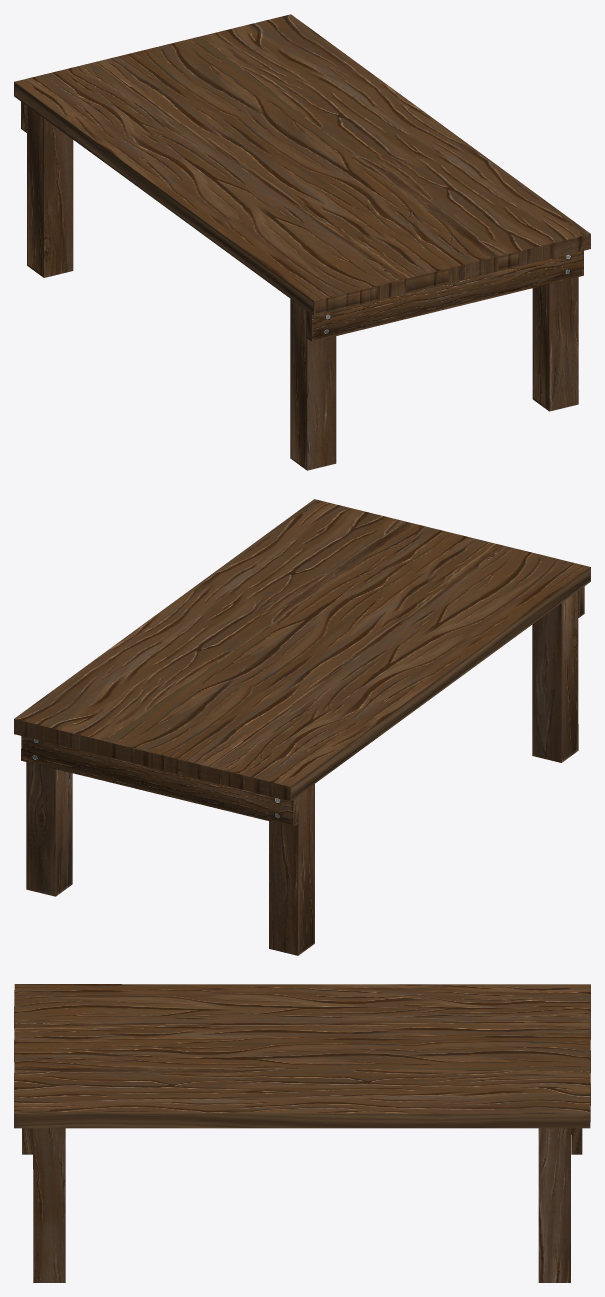
File: stolek1.FBX
3 renders of one model, top to bottom at view 1: azimuth 30°, elevation 25°; view 2: azimuth 150°, elevation 25°; view 3: azimuth 270°, elevation 25°, orthographic. The views are drawn at different scales.
Visible parts, largest first — view 1: stolek1_LOD3, stolek1_LOD1, stolek1_LOD2; view 2: stolek1_LOD3, stolek1_LOD1, stolek1_LOD2; view 3: stolek1_LOD3, stolek1_LOD2.
Boxes of the visible parts, box(x1,y1,x2,y2) form: stolek1_LOD3: box(14, 14, 590, 470); stolek1_LOD1: box(15, 84, 581, 467); stolek1_LOD2: box(26, 39, 578, 470); stolek1_LOD3: box(14, 499, 590, 955); stolek1_LOD1: box(23, 570, 589, 952); stolek1_LOD2: box(14, 529, 578, 955); stolek1_LOD3: box(14, 984, 590, 1113); stolek1_LOD2: box(14, 990, 590, 1282).
Bounding box in the file's own units: 31.46 × 19.26 × 59.14.
